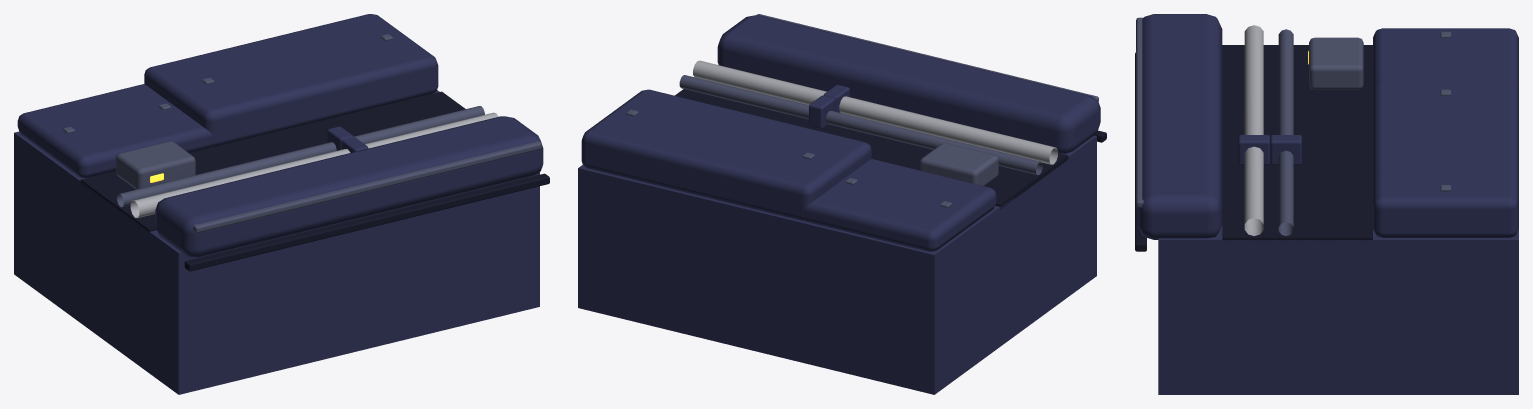
The model's file is int.rimliner.v1.w1.glb.
3 renders of one model, left to right at view 1: azimuth 30°, elevation 25°; view 2: azimuth 150°, elevation 25°; view 3: azimuth 270°, elevation 25°, orthographic. The views are drawn at different scales.
Parts seen in each view (by area): view 1: int.rimliner.v1.w1; view 2: int.rimliner.v1.w1; view 3: int.rimliner.v1.w1.
Part boxes in pixels (left/top/right/bottom): int.rimliner.v1.w1: left=14, top=14, right=549, bottom=394; int.rimliner.v1.w1: left=578, top=14, right=1106, bottom=394; int.rimliner.v1.w1: left=1135, top=14, right=1518, bottom=394.
Bounding box in the file's own units: 1 × 0.476 × 0.841.
